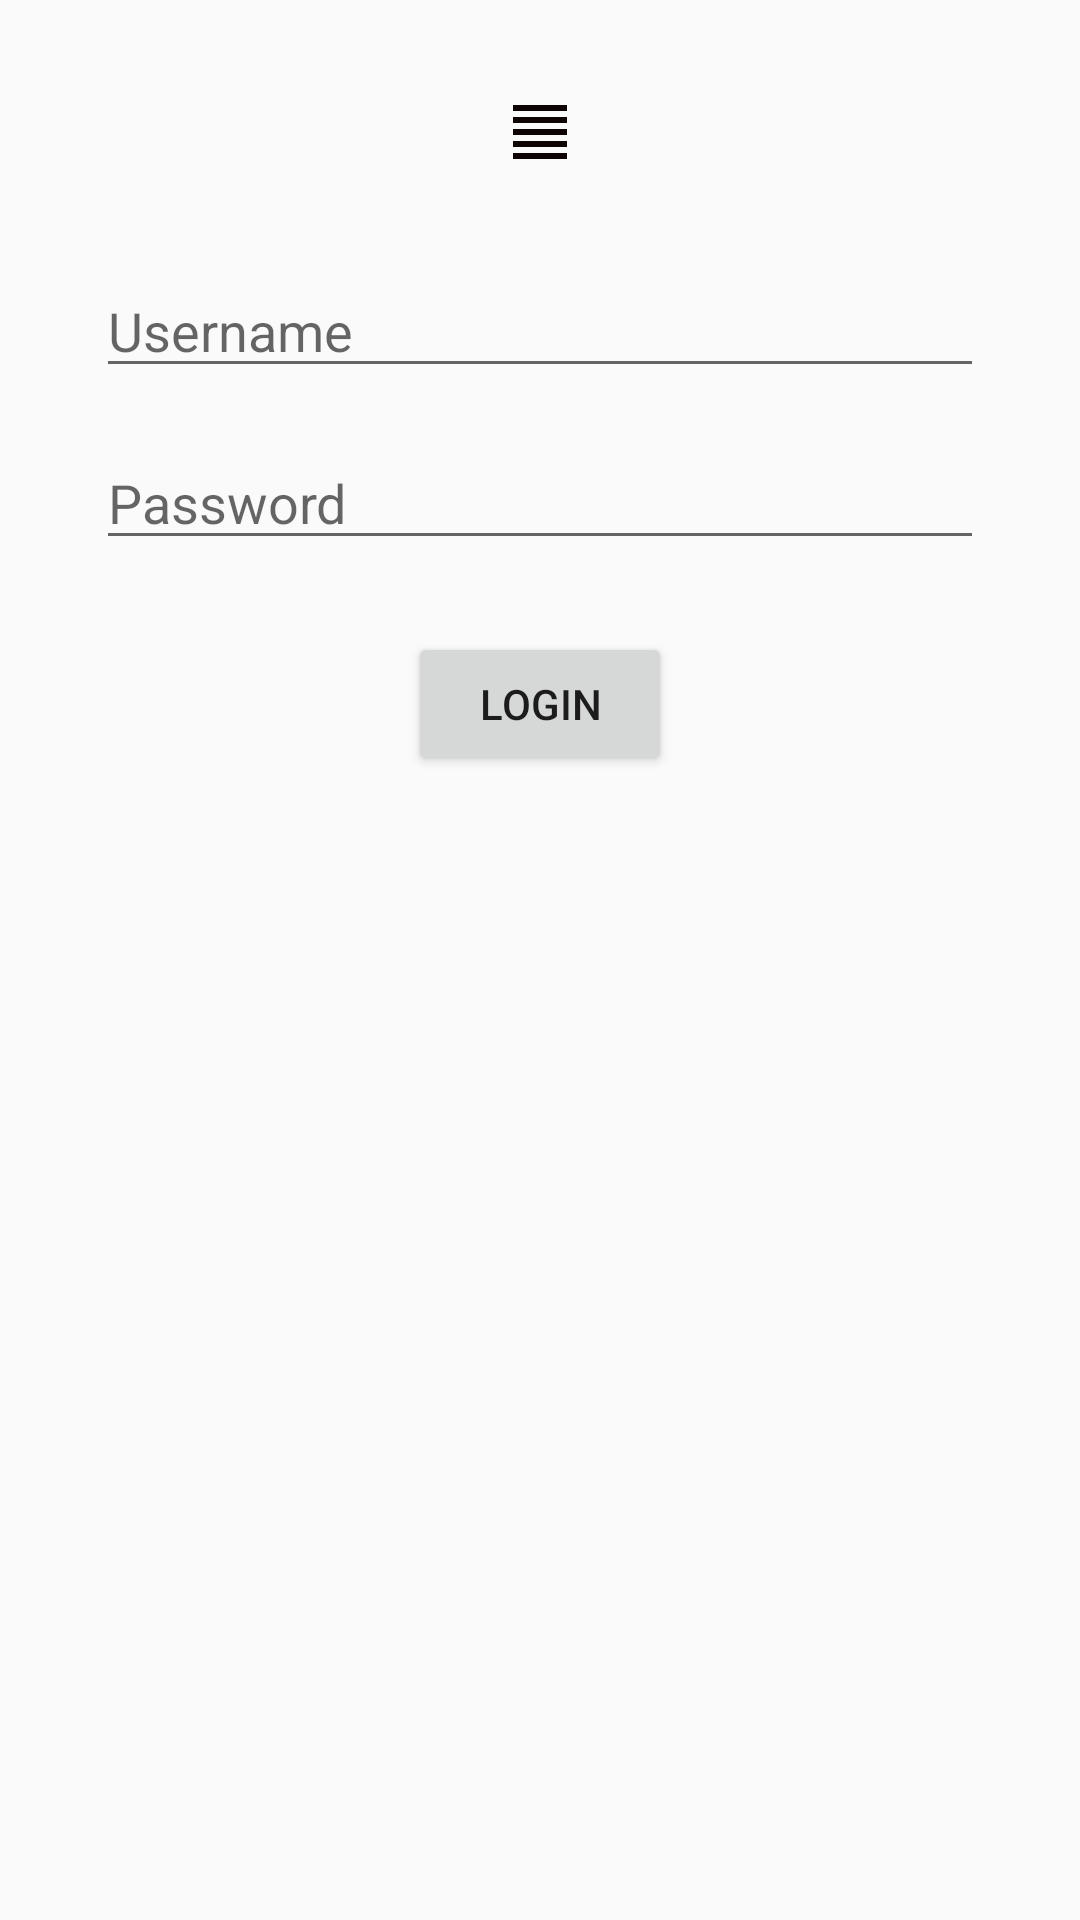

Named icons in this screenshot (1080w x 1920h) and their bounding boxes, (x1, y1, x2, y2):
format align justify: (513, 105, 567, 159)
